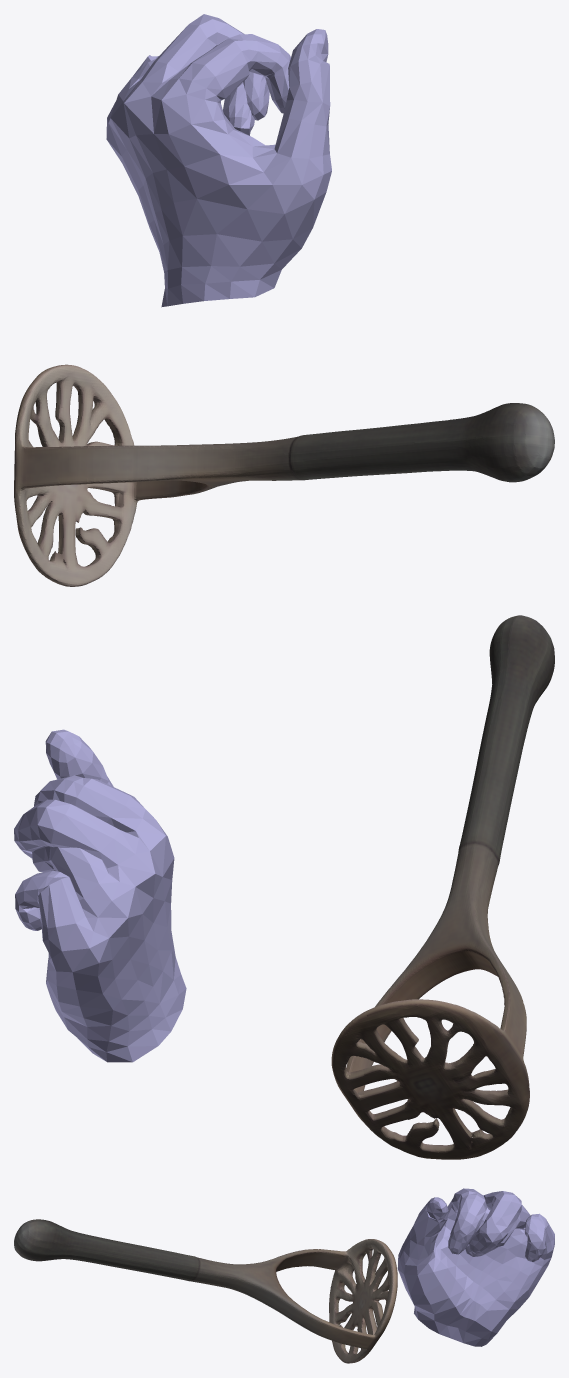
The model's file is frame_0080_source_000080_hand_object.glb.
3 renders of one model, top to bottom at view 1: azimuth 30°, elevation 25°; view 2: azimuth 150°, elevation 25°; view 3: azimuth 270°, elevation 25°, orthographic. The views are drawn at different scales.
Visible parts, largest first — view 1: world; view 2: world; view 3: world.
Part boxes in pixels (box(x1,y1,x2,y2)): world: box(14, 14, 554, 586); world: box(14, 615, 554, 1159); world: box(14, 1188, 554, 1363).
Size of the model in its own units: 0.1763 by 0.1753 by 0.3442.
